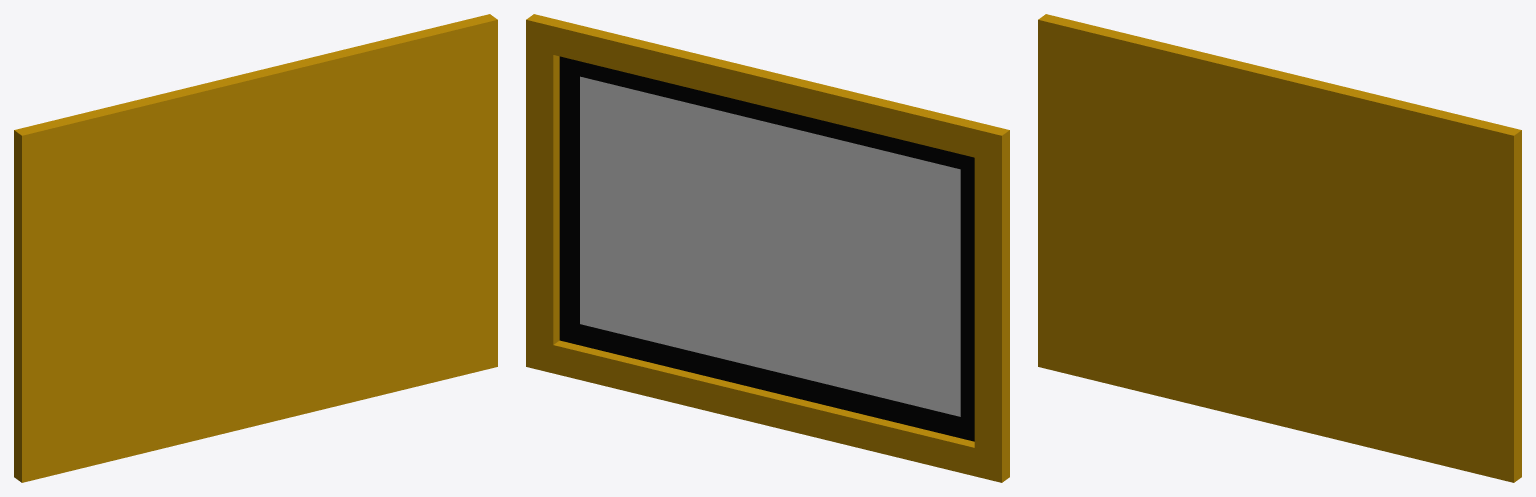
The model's file is DiplomaFrame.fbx.
3 views of the same model, side by side, from view 1: azimuth 30°, elevation 25°; view 2: azimuth 150°, elevation 25°; view 3: azimuth 330°, elevation 25° (orthographic).
Visible parts, largest first — view 1: Diploma; view 2: Diploma; view 3: Diploma.
Boxes of the visible parts, box(x1,y1,x2,y2) form: Diploma: box(14, 14, 497, 482); Diploma: box(526, 14, 1009, 482); Diploma: box(1038, 14, 1521, 482).
Size of the model in its own units: 0.35 by 0.244 by 0.01.
